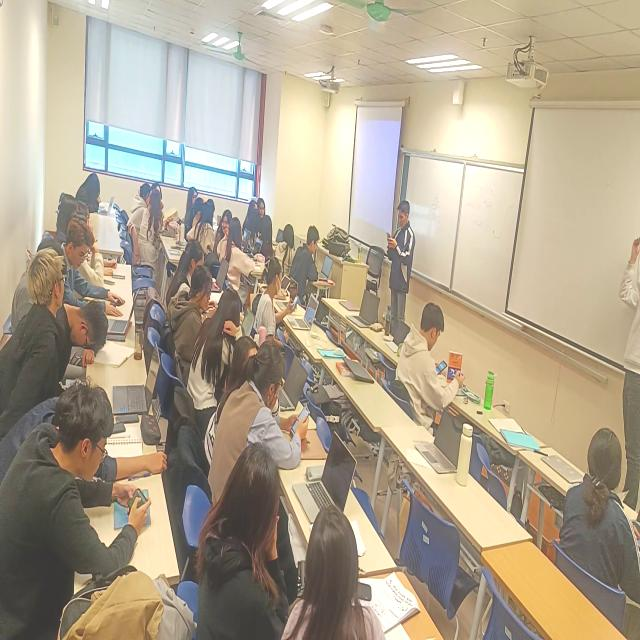raise_head: (1, 244, 74, 435), (77, 196, 93, 230)
sleep: (28, 293, 114, 385)
stand: (617, 226, 640, 506), (383, 197, 420, 350)
using_computer: (165, 236, 220, 322), (291, 224, 338, 306)
using_phone: (1, 379, 165, 640), (390, 296, 478, 434), (252, 252, 302, 353), (73, 173, 105, 218)
